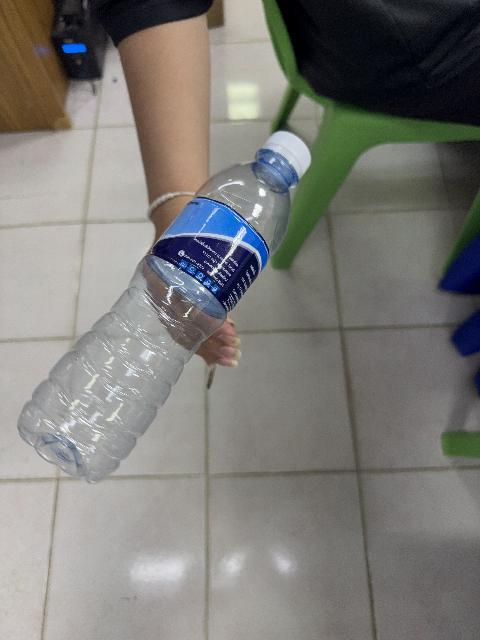bottle: (19, 132, 310, 482)
